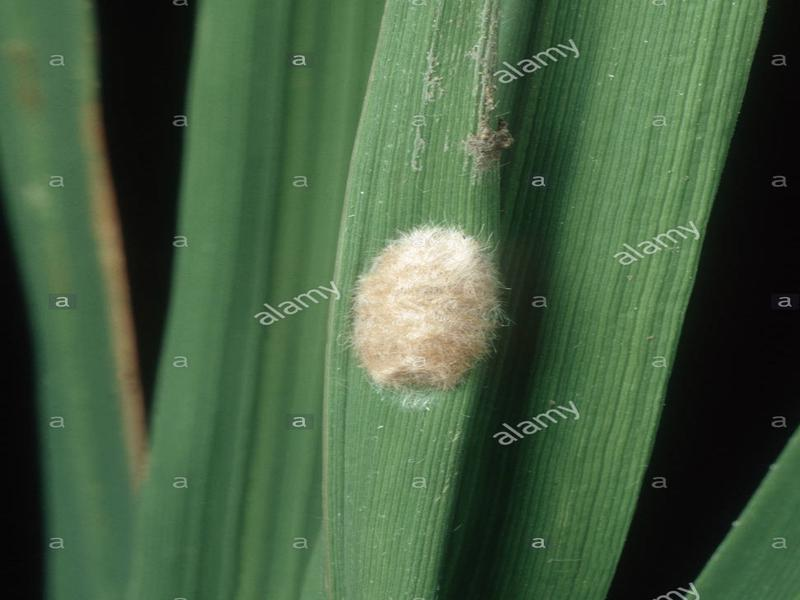Rice_skipper: (338, 200, 519, 430)
